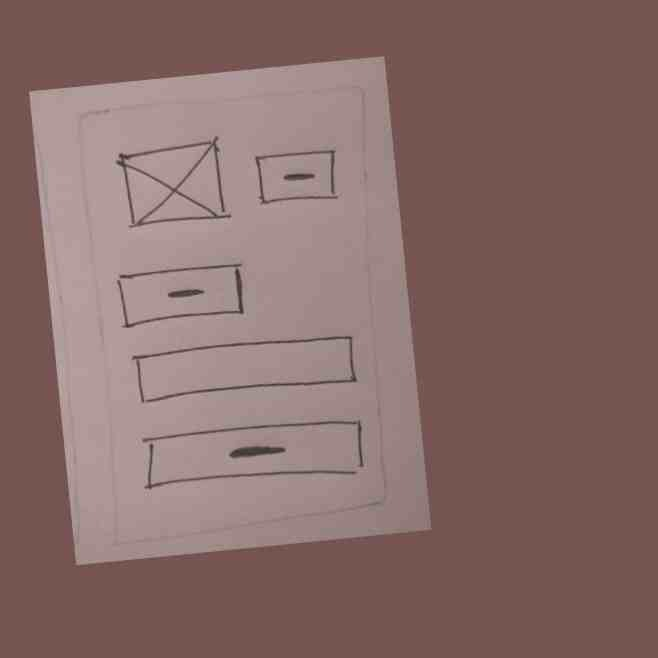button: (132, 408, 370, 506), (109, 258, 251, 337), (250, 144, 343, 213)
image: (109, 133, 238, 238)
text_input: (126, 326, 364, 414)
